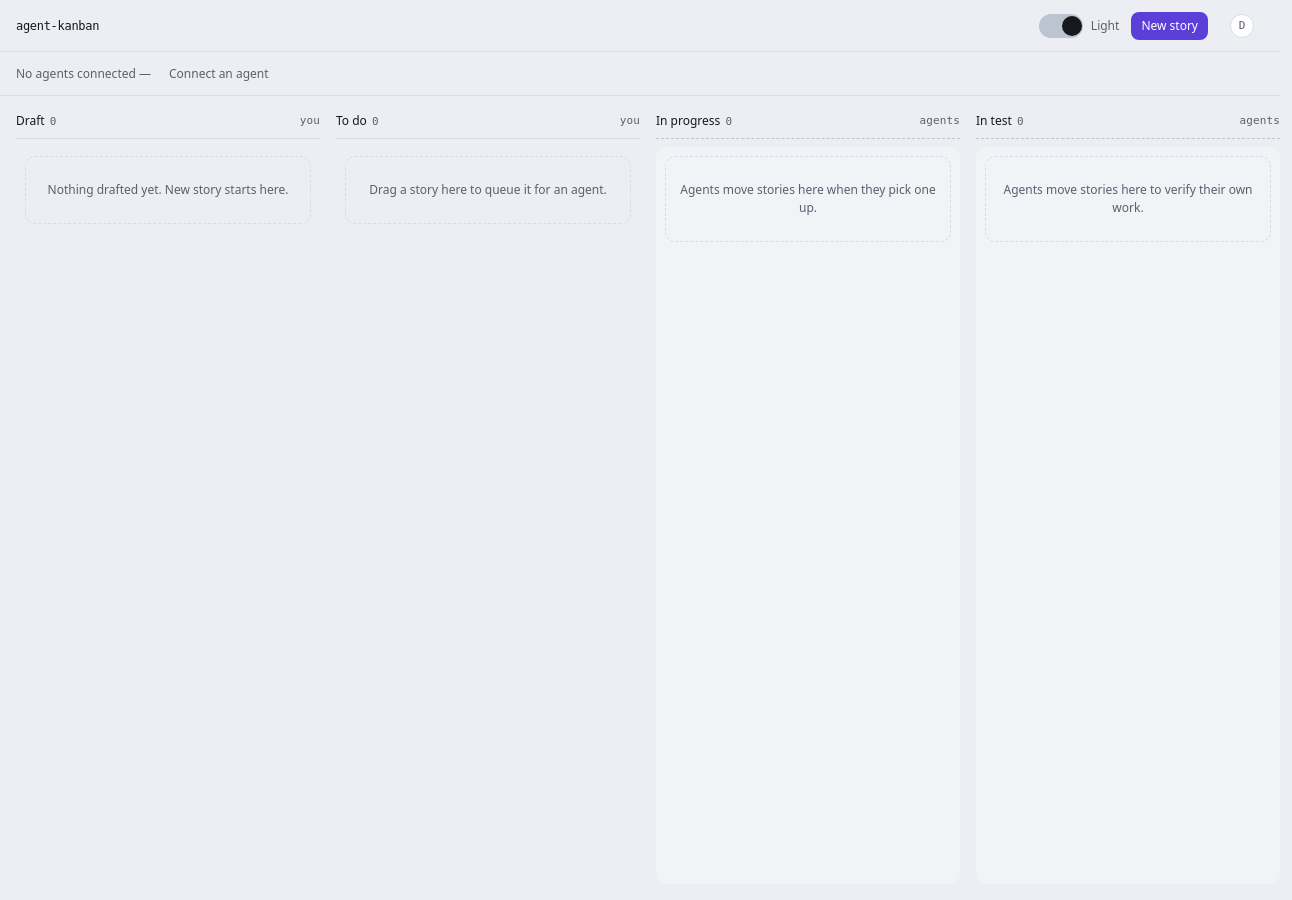
App › returns to the auth screen after logging out
Click the button named "Account". click: click(1242, 26)
box: [1220,12,1264,40]
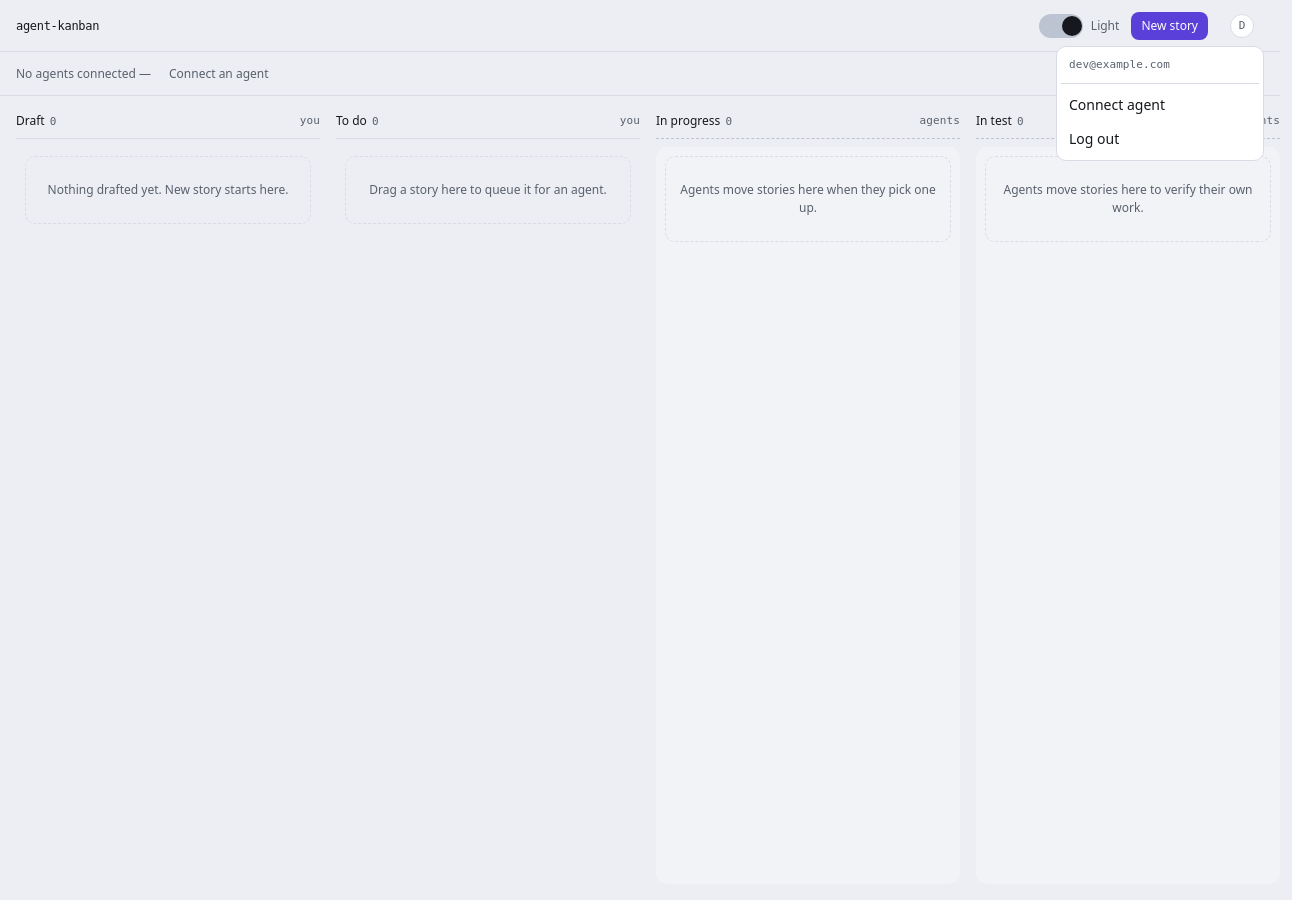
Click the menu item "Log out". click: click(1094, 138)
box: [1069,129,1119,148]
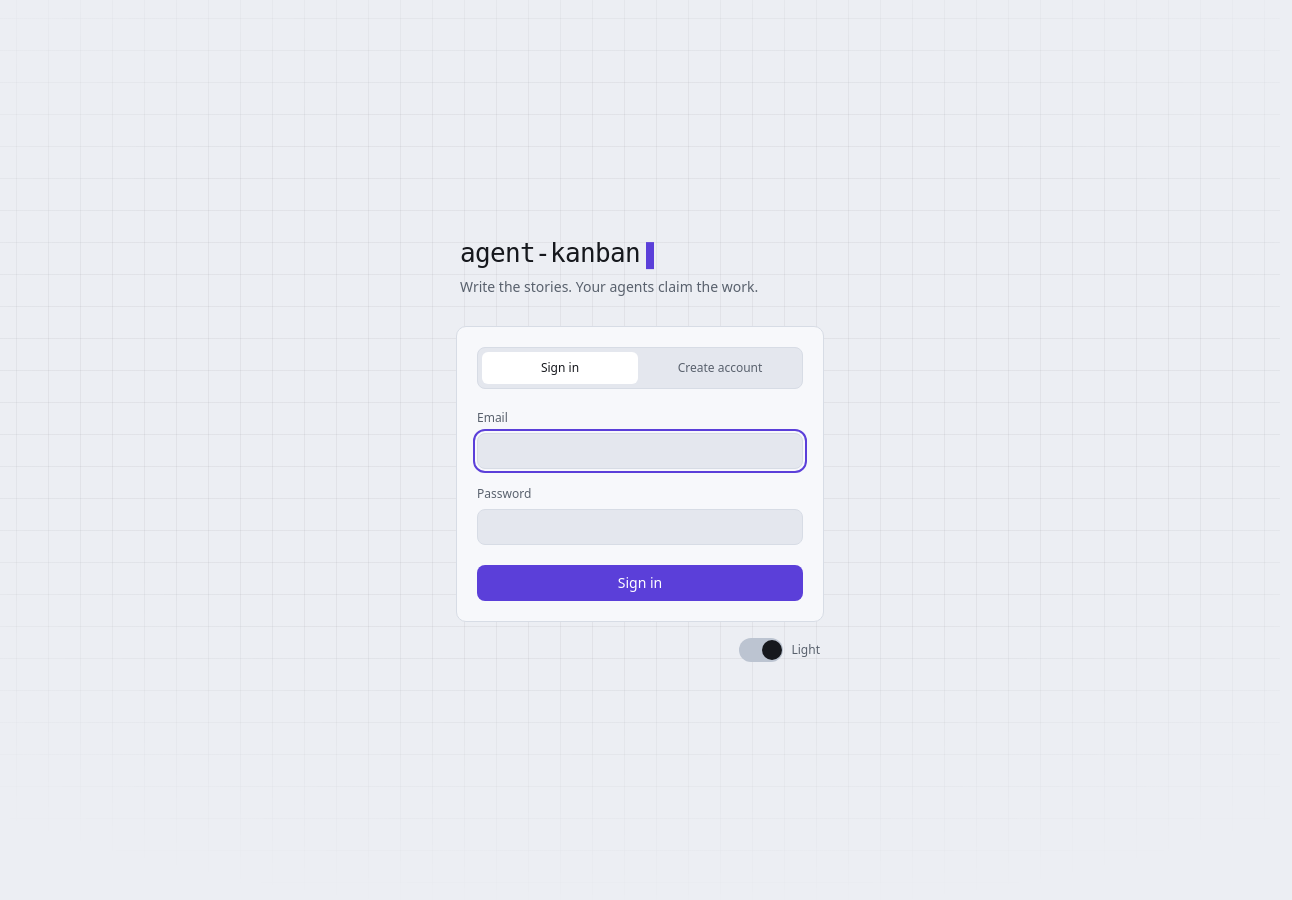
expect the tab "Sign in" is shown: met, box [482,352,638,384]
